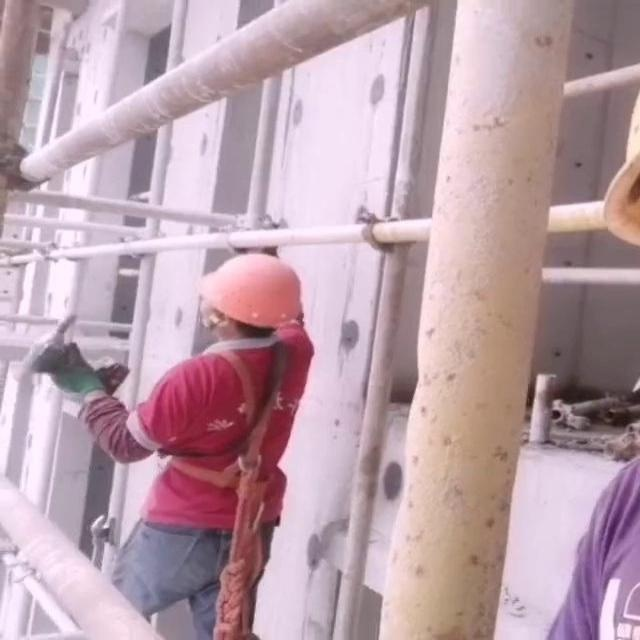Arnes_seguridad: (153, 334, 314, 504)
